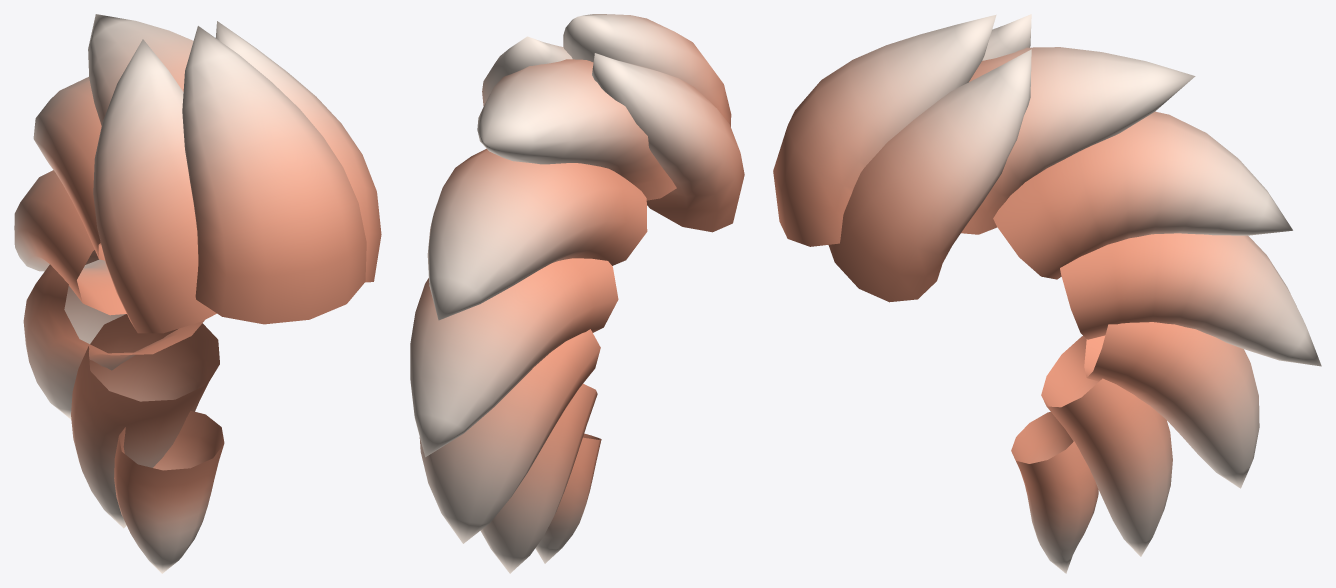
The model's file is ChitioHair3.fbx.
The picture shows the model from 3 angles, left to right: view 1: azimuth 30°, elevation 25°; view 2: azimuth 150°, elevation 25°; view 3: azimuth 270°, elevation 25°; orthographic projection. The views are drawn at different scales.
Visible parts, largest first — view 1: Hair3; view 2: Hair3; view 3: Hair3.
Part boxes in pixels (x1=…): Hair3: x1=14, y1=14, x2=381, y2=573; Hair3: x1=410, y1=14, x2=744, y2=573; Hair3: x1=773, y1=14, x2=1321, y2=573.
Size of the model in its own units: 0.1254 by 0.26 by 0.2312.
